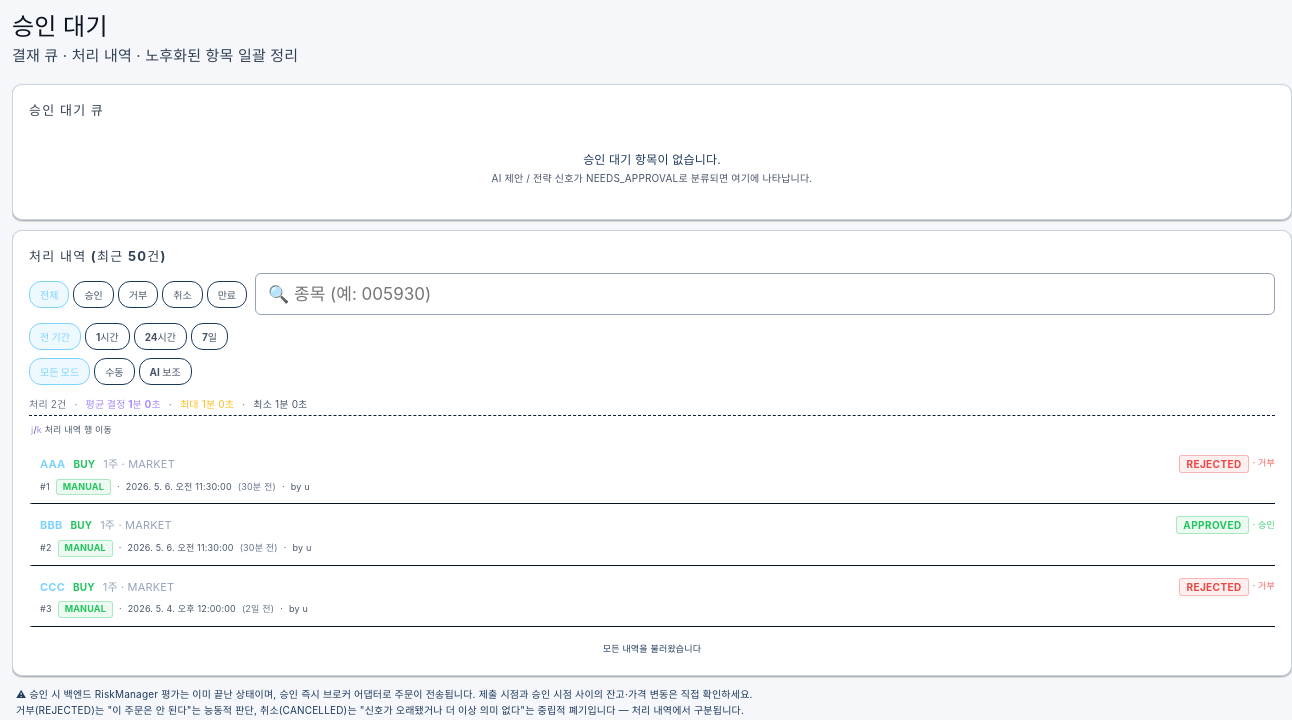
Scenario: <Approvals> 처리 내역 time-bucket filter › composes with status filter (24시간 × 거부)
The width and height of the screenshot is (1292, 720).
Click the radio button labelled "24시간".
click(160, 337)  # box [134,323,187,350]
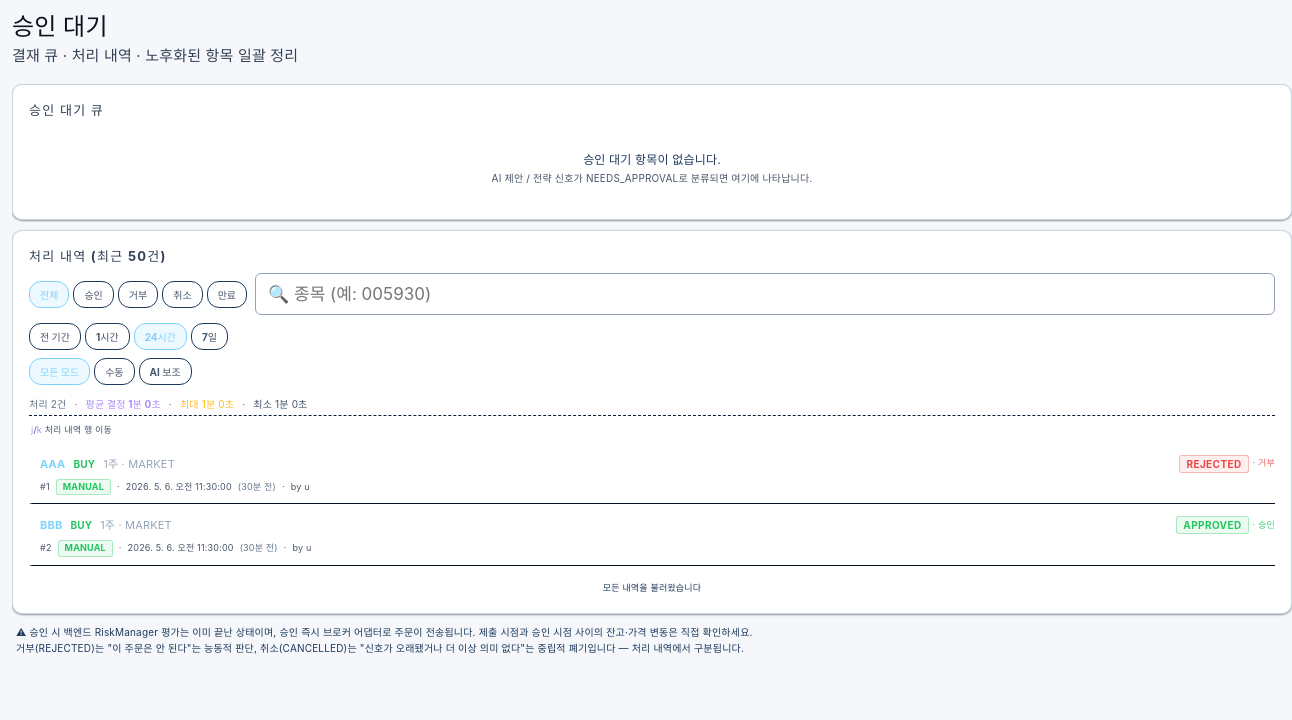
Click the radio button labelled "거부".
click(138, 294)  # box [118,281,158,308]
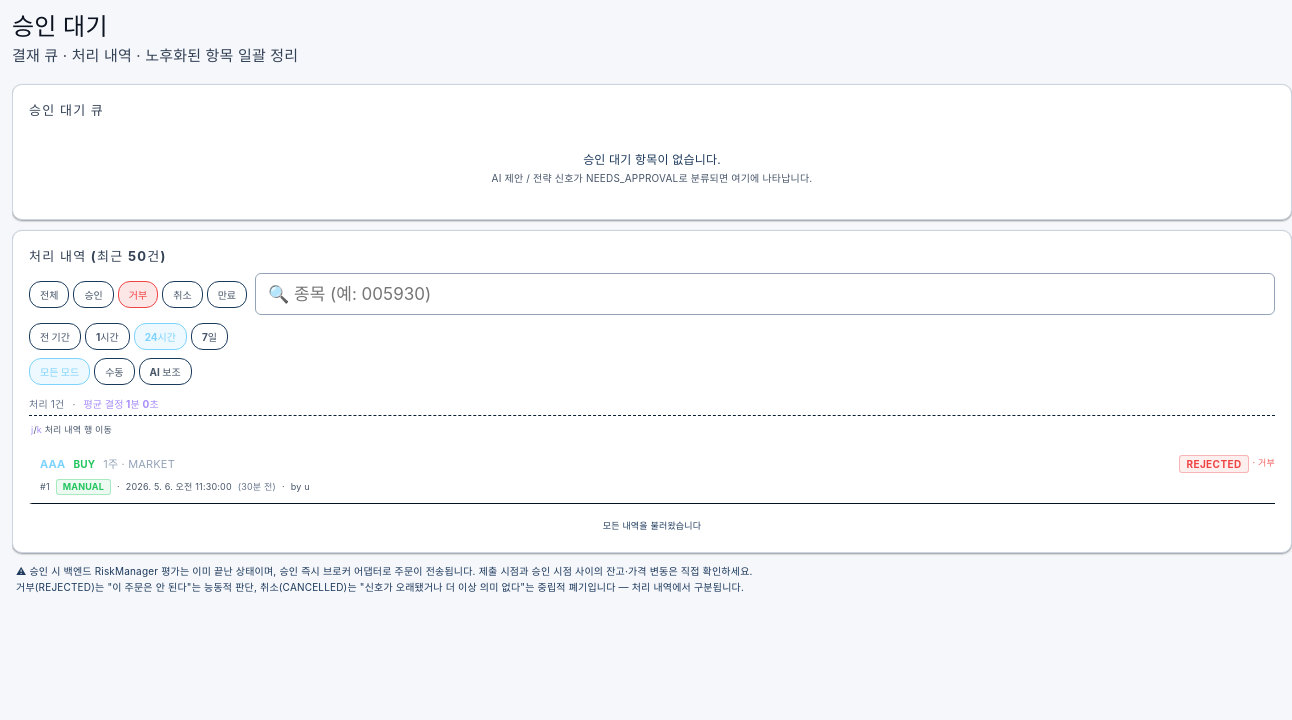
Expected: the text "AAA" is shown, [40,457,66,471]
Expected: the text "BBB" is gone
